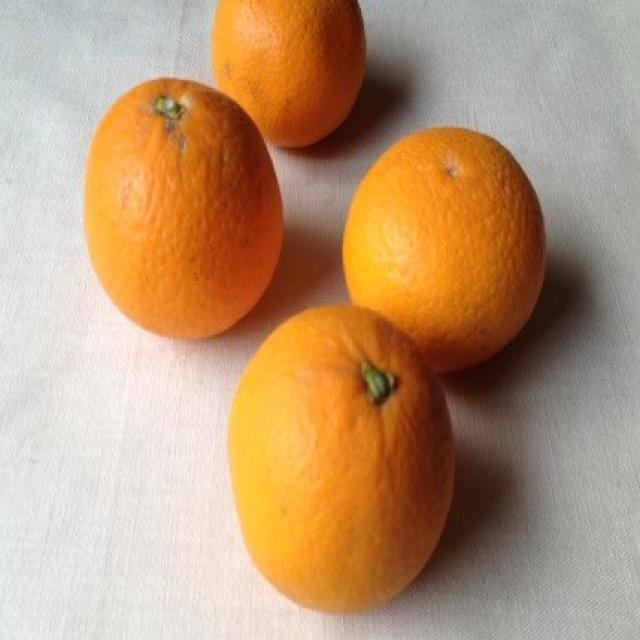Orange: (215, 300, 446, 608), (80, 76, 287, 332), (340, 125, 542, 368), (208, 0, 368, 148)
